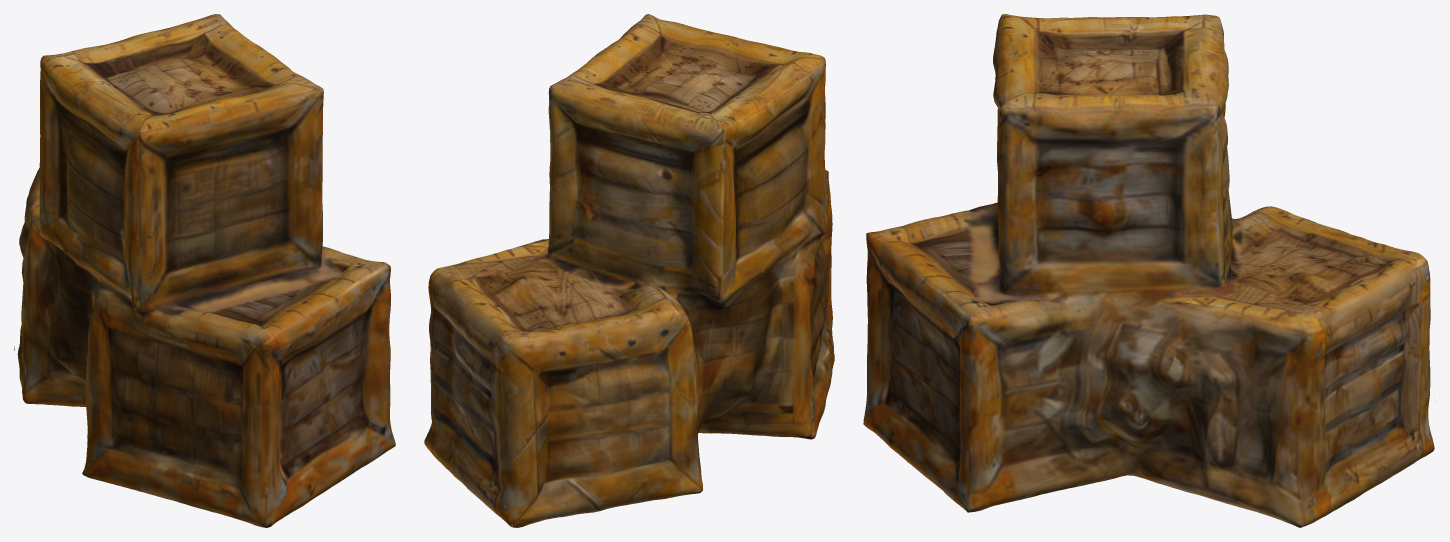
Rendered from cratestack.fbx.
The picture shows the model from 3 angles, left to right: view 1: azimuth 30°, elevation 25°; view 2: azimuth 150°, elevation 25°; view 3: azimuth 270°, elevation 25°; orthographic projection. The views are drawn at different scales.
Visible parts, largest first — view 1: Mesh_0; view 2: Mesh_0; view 3: Mesh_0.
Part boxes in pixels (left/top/right/bottom): Mesh_0: left=14, top=14, right=395, bottom=527; Mesh_0: left=424, top=14, right=834, bottom=527; Mesh_0: left=863, top=14, right=1435, bottom=527.
Bounding box in the file's own units: 74.2 × 90.72 × 120.
1 material, 1 textured.
